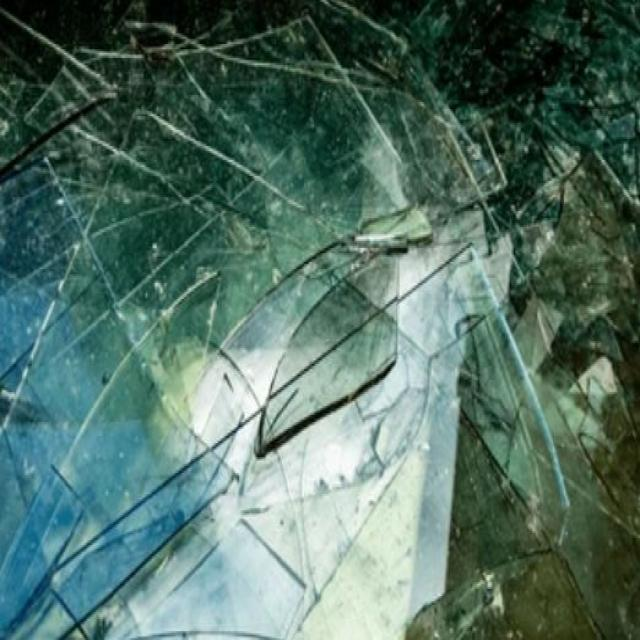electronic: (1, 5, 573, 640)
